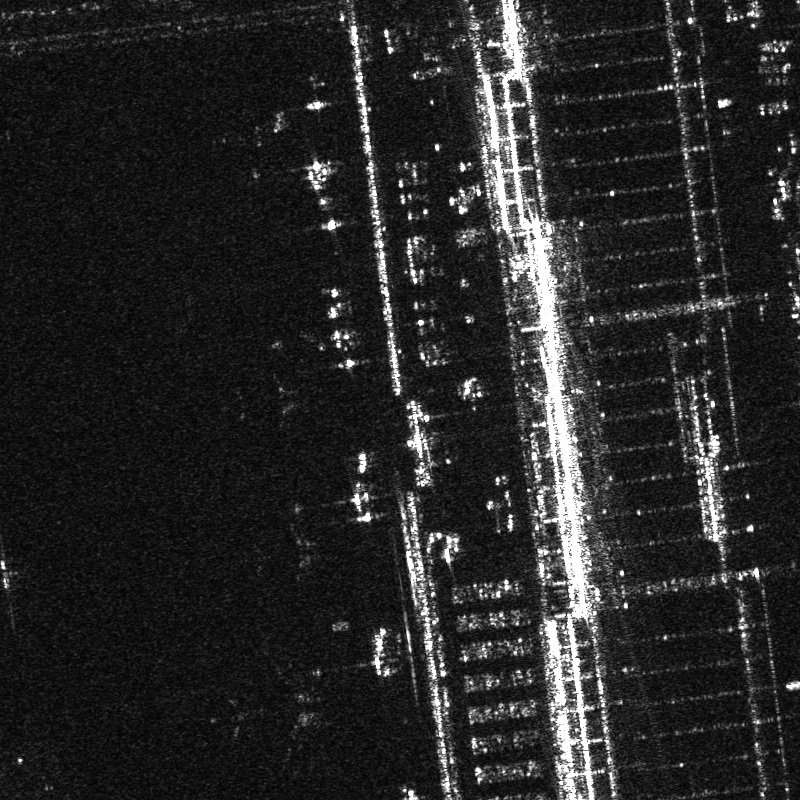Boeing787: (204, 652, 338, 777), (252, 510, 336, 582)
